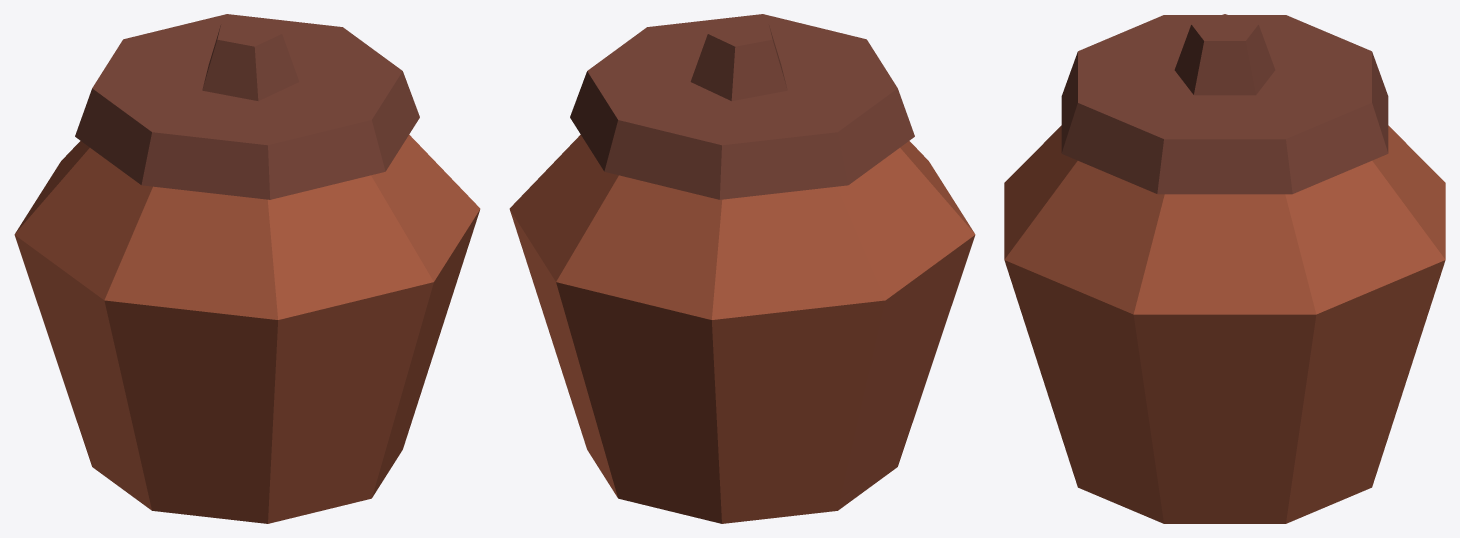
The model's file is work-pot.glb.
The picture shows the model from 3 angles, left to right: view 1: azimuth 30°, elevation 25°; view 2: azimuth 150°, elevation 25°; view 3: azimuth 270°, elevation 25°; orthographic projection.
Visible parts, largest first — view 1: work-pot; view 2: work-pot; view 3: work-pot.
Part boxes in pixels (x1,y1,x2,y2): work-pot: (14, 14, 480, 523); work-pot: (509, 14, 975, 523); work-pot: (1004, 14, 1445, 523).
Size of the model in its own units: 0.4989 by 0.54 by 0.4989.
Materials: 1 (1 with a texture image).
